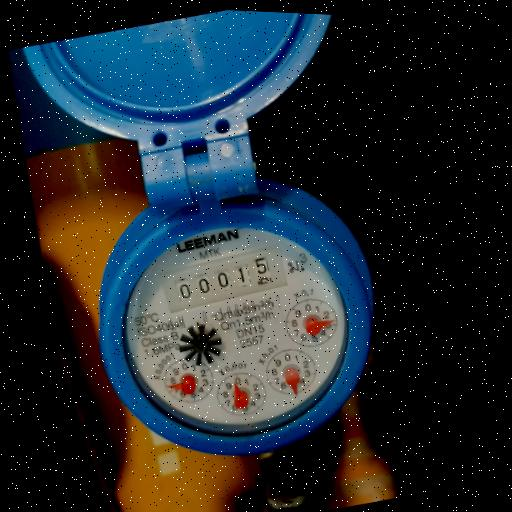0: (172, 275, 197, 304), (212, 266, 235, 294), (193, 271, 216, 298)
1: (231, 262, 253, 290)
5: (248, 253, 275, 289)
border_water_meter_number: (155, 238, 292, 318)
